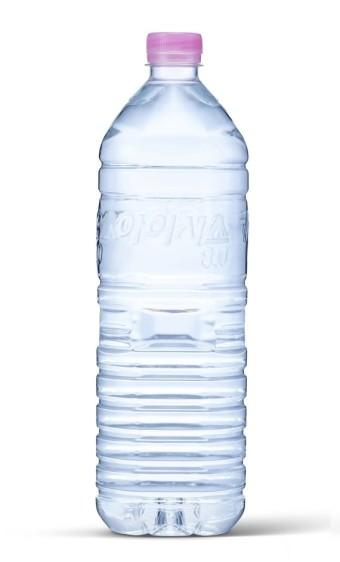pet: (80, 18, 278, 548), (124, 24, 260, 539)
